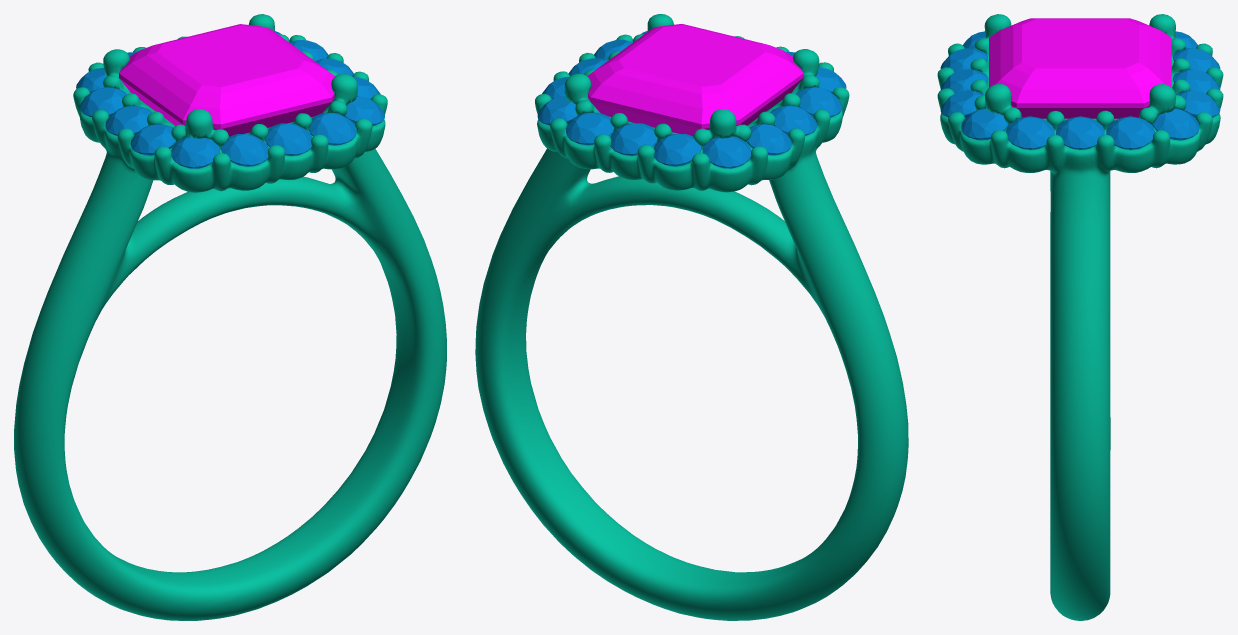
Rendered from BE1BD12R2_AS_200ct_RENDER.glb.
The picture shows the model from 3 angles, left to right: view 1: azimuth 30°, elevation 25°; view 2: azimuth 150°, elevation 25°; view 3: azimuth 270°, elevation 25°; orthographic projection.
Parts seen in each view (by area): view 1: Metal 01, CS_Diamond_Asscher, Diamond_Round_Gem_HD.009, Diamond_Round_Gem_HD.010, Diamond_Round_Gem_HD.013, Diamond_Round_Gem_HD.015, Diamond_Round_Gem_HD.011, Diamond_Round_Gem_HD.006, Diamond_Round_Gem_HD.001, Diamond_Round_Gem_HD.014; view 2: Metal 01, CS_Diamond_Asscher, Diamond_Round_Gem_HD.008, Diamond_Round_Gem_HD.007, Diamond_Round_Gem_HD.004, Diamond_Round_Gem_HD.002, Diamond_Round_Gem_HD.006, Diamond_Round_Gem_HD.011, Diamond_Round_Gem_HD.001, Diamond_Round_Gem_HD.003; view 3: Metal 01, CS_Diamond_Asscher, Diamond_Round_Gem_HD.012, Diamond_Round_Gem_HD.005, Diamond_Round_Gem_HD, Diamond_Round_Gem_HD.003, Diamond_Round_Gem_HD.014, Diamond_Round_Gem_HD.013, Diamond_Round_Gem_HD.004, Diamond_Round_Gem_HD.002, Diamond_Round_Gem_HD.010, Diamond_Round_Gem_HD.007 (+1 smaller).
Part boxes in pixels (x1=…): Metal 01: x1=14, y1=14, x2=446, y2=620; CS_Diamond_Asscher: x1=119, y1=24, x2=334, y2=136; Diamond_Round_Gem_HD.009: x1=171, y1=136, x2=219, y2=168; Diamond_Round_Gem_HD.010: x1=221, y1=134, x2=268, y2=166; Diamond_Round_Gem_HD.013: x1=308, y1=113, x2=356, y2=145; Diamond_Round_Gem_HD.015: x1=264, y1=123, x2=312, y2=155; Diamond_Round_Gem_HD.011: x1=130, y1=124, x2=175, y2=155; Diamond_Round_Gem_HD.006: x1=80, y1=87, x2=126, y2=117; Diamond_Round_Gem_HD.001: x1=105, y1=105, x2=151, y2=135; Diamond_Round_Gem_HD.014: x1=345, y1=96, x2=384, y2=125; Metal 01: x1=475, y1=14, x2=908, y2=620; CS_Diamond_Asscher: x1=587, y1=24, x2=803, y2=136; Diamond_Round_Gem_HD.008: x1=702, y1=136, x2=751, y2=168; Diamond_Round_Gem_HD.007: x1=653, y1=134, x2=701, y2=166; Diamond_Round_Gem_HD.004: x1=566, y1=112, x2=614, y2=145; Diamond_Round_Gem_HD.002: x1=610, y1=123, x2=657, y2=155; Diamond_Round_Gem_HD.006: x1=746, y1=123, x2=791, y2=155; Diamond_Round_Gem_HD.011: x1=796, y1=87, x2=842, y2=116; Diamond_Round_Gem_HD.001: x1=770, y1=105, x2=816, y2=135; Diamond_Round_Gem_HD.003: x1=537, y1=96, x2=577, y2=125; Metal 01: x1=937, y1=14, x2=1223, y2=620; CS_Diamond_Asscher: x1=989, y1=18, x2=1171, y2=118; Diamond_Round_Gem_HD.012: x1=1006, y1=116, x2=1054, y2=149; Diamond_Round_Gem_HD.005: x1=1106, y1=116, x2=1154, y2=149; Diamond_Round_Gem_HD: x1=1056, y1=116, x2=1104, y2=149; Diamond_Round_Gem_HD.003: x1=1152, y1=108, x2=1199, y2=140; Diamond_Round_Gem_HD.014: x1=961, y1=108, x2=1008, y2=140; Diamond_Round_Gem_HD.013: x1=940, y1=90, x2=984, y2=117; Diamond_Round_Gem_HD.004: x1=1176, y1=90, x2=1220, y2=117; Diamond_Round_Gem_HD.002: x1=1173, y1=69, x2=1220, y2=93; Diamond_Round_Gem_HD.010: x1=940, y1=48, x2=987, y2=72; Diamond_Round_Gem_HD.007: x1=1173, y1=48, x2=1220, y2=72.
Bounding box in the file's own units: 20 × 25.06 × 11.74.
